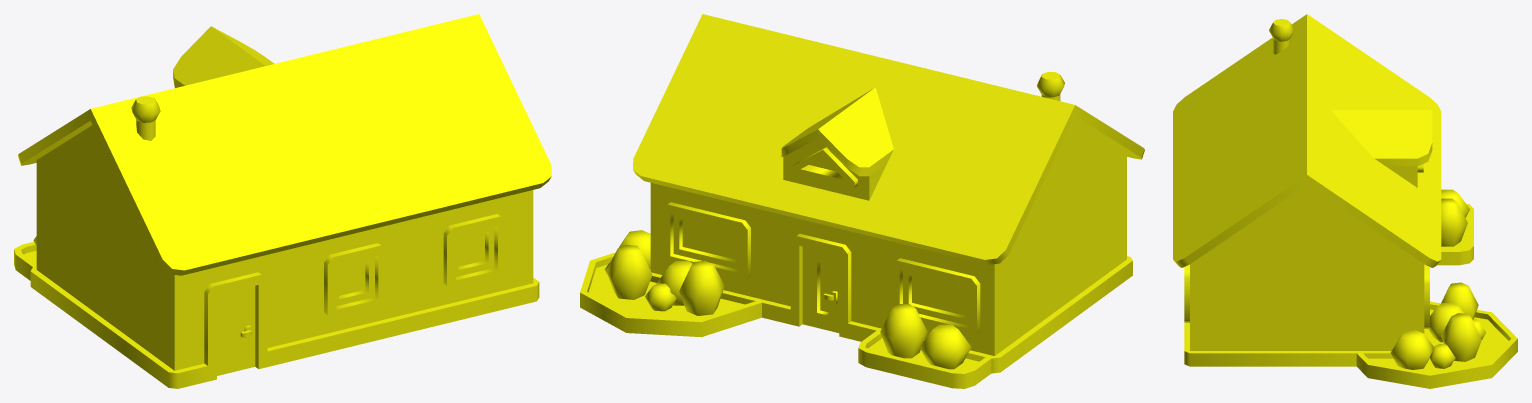
The model's file is residential-2.glb.
3 views of the same model, side by side, from view 1: azimuth 30°, elevation 25°; view 2: azimuth 150°, elevation 25°; view 3: azimuth 270°, elevation 25° (orthographic). The views are drawn at different scales.
Parts seen in each view (by area): view 1: building-type-g; view 2: building-type-g; view 3: building-type-g.
Part boxes in pixels (x1=…): building-type-g: x1=14, y1=14, x2=551, y2=388; building-type-g: x1=580, y1=14, x2=1144, y2=388; building-type-g: x1=1173, y1=14, x2=1517, y2=388.
Bounding box in the file's own units: 1.45 × 0.7682 × 1.18.
Materials: 1 (1 with a texture image).
